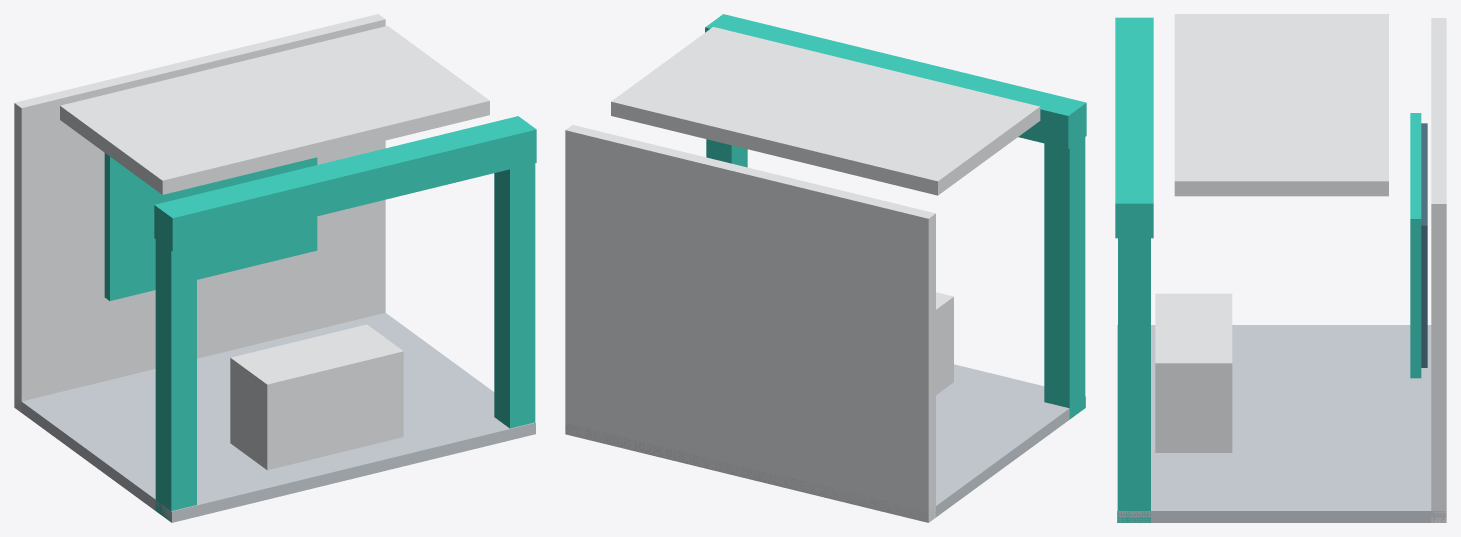
3 views of the same model, side by side, from view 1: azimuth 30°, elevation 25°; view 2: azimuth 150°, elevation 25°; view 3: azimuth 270°, elevation 25° (orthographic). The views are drawn at different scales.
Parts seen in each view (by area): view 1: Exhibition Booth Concept; view 2: Exhibition Booth Concept; view 3: Exhibition Booth Concept.
Boxes of the visible parts, bbox=[...] form: Exhibition Booth Concept: bbox=[14, 14, 536, 522]; Exhibition Booth Concept: bbox=[565, 14, 1086, 522]; Exhibition Booth Concept: bbox=[1115, 14, 1446, 522].
Size of the model in its own units: 4 by 3.34 by 3.01.
